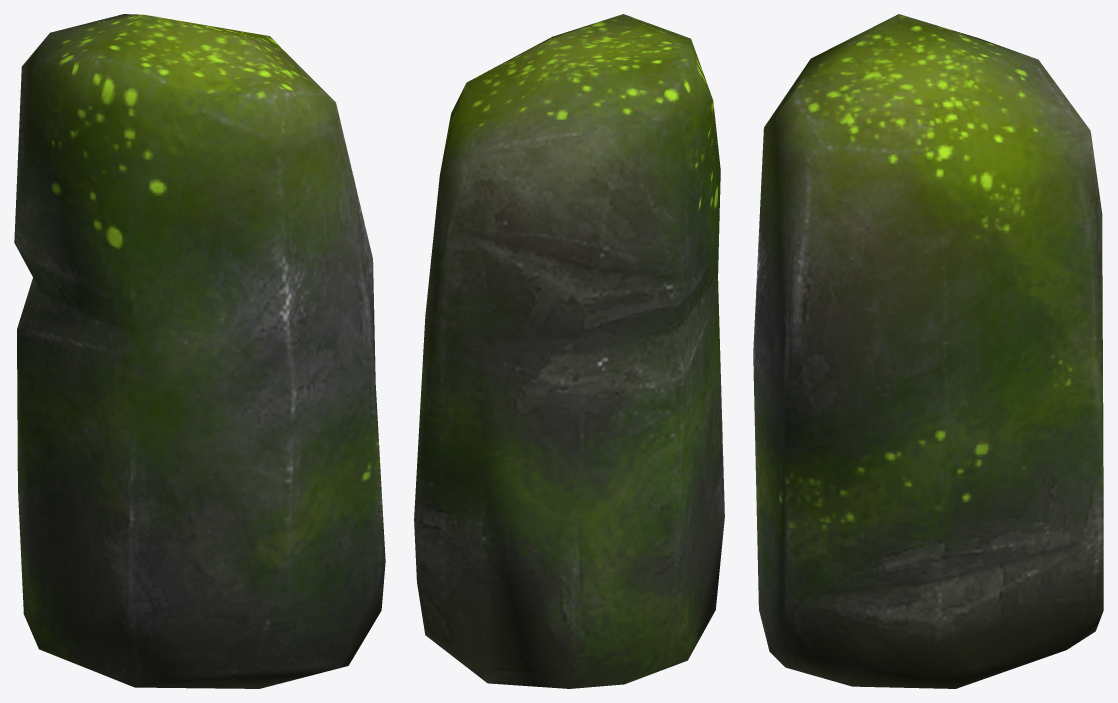
Rendered from rock4.fbx.
3 views of the same model, side by side, from view 1: azimuth 30°, elevation 25°; view 2: azimuth 150°, elevation 25°; view 3: azimuth 270°, elevation 25° (orthographic). The views are drawn at different scales.
Parts seen in each view (by area): view 1: rocks1_3; view 2: rocks1_3; view 3: rocks1_3.
Part boxes in pixels (left/top/right/bottom): rocks1_3: left=14, top=14, right=385, bottom=688; rocks1_3: left=414, top=14, right=724, bottom=688; rocks1_3: left=753, top=14, right=1103, bottom=688.
Size of the model in its own units: 239 by 470 by 263.
